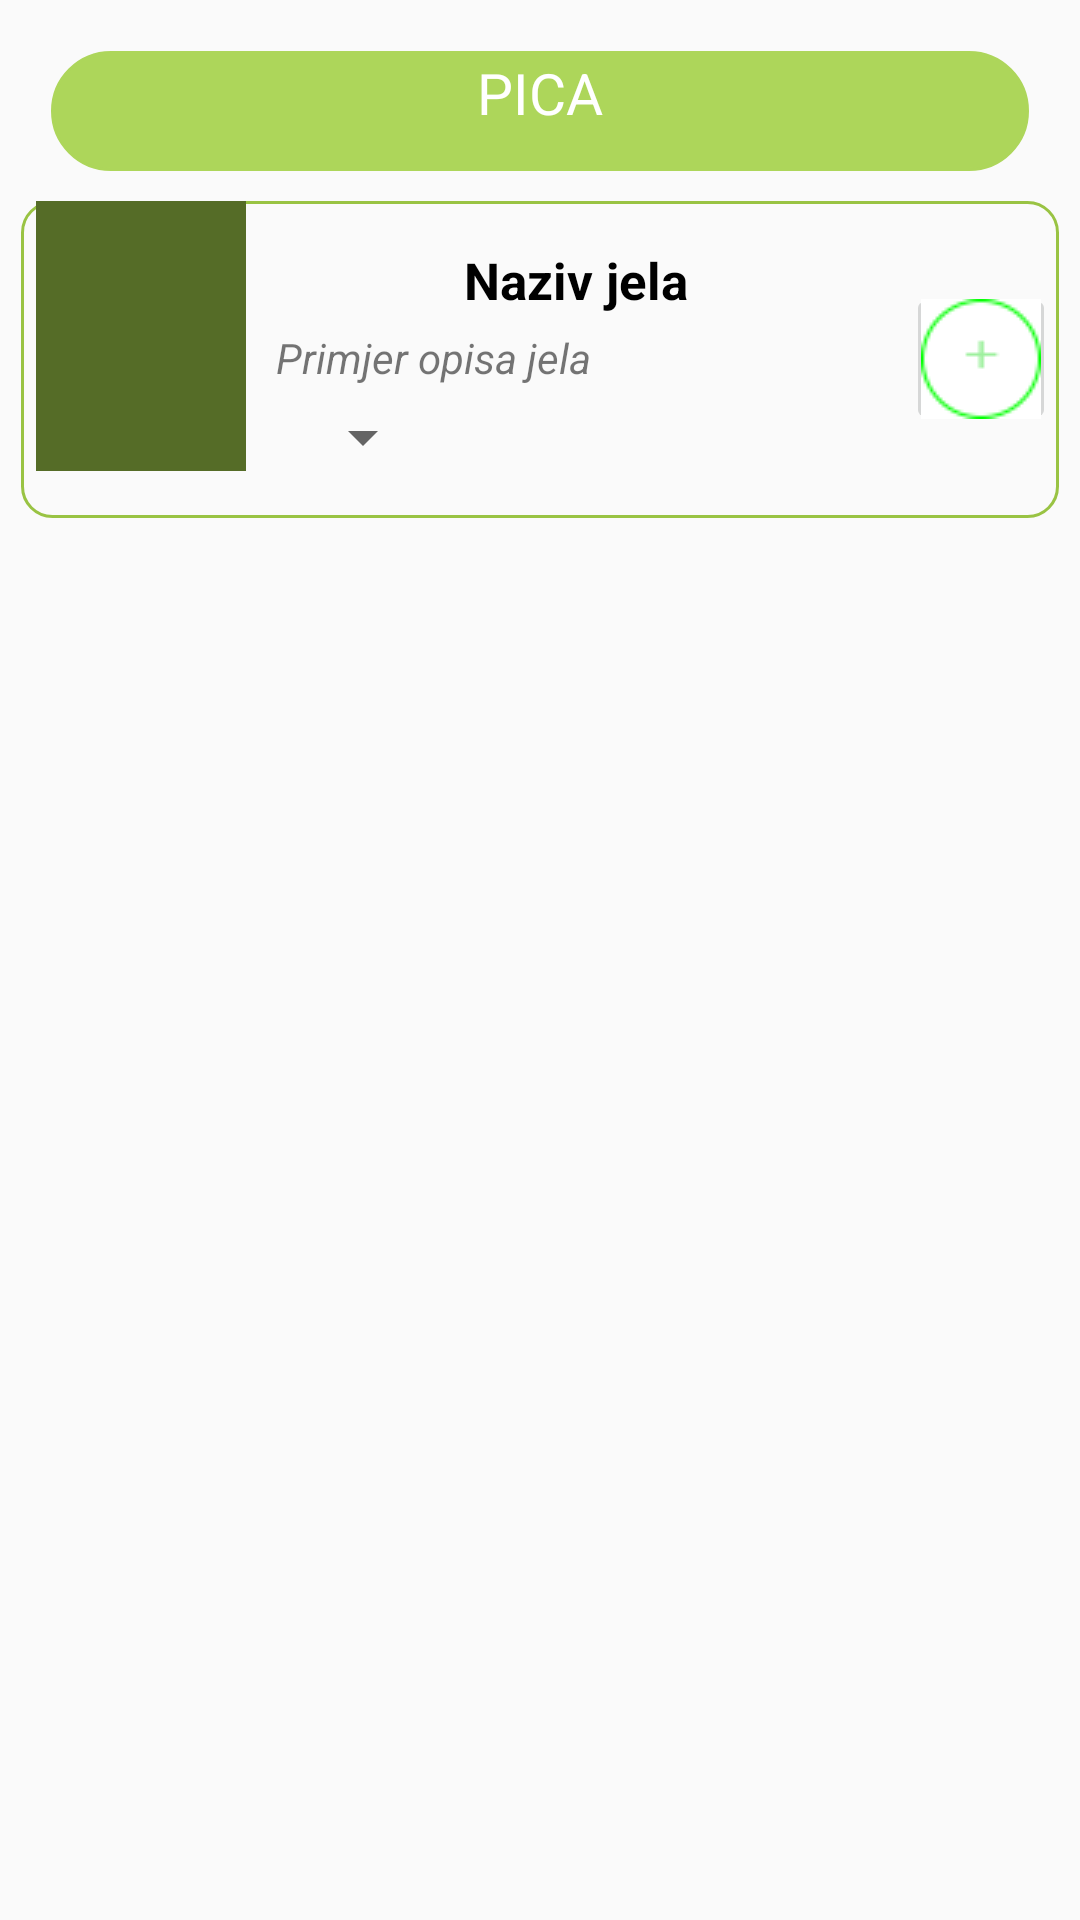

Named icons in this screenshot (1080px×1920px) and their centers, point (x, y):
dodaj: point (981, 359)
